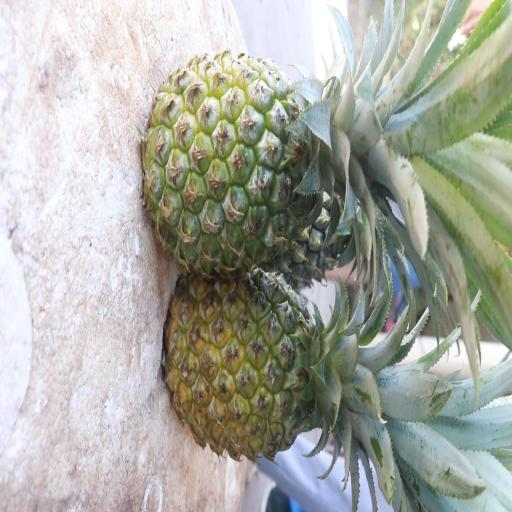------------------------------: (150, 56, 380, 272)
Pineapple - v8 v1: (164, 271, 385, 458)
